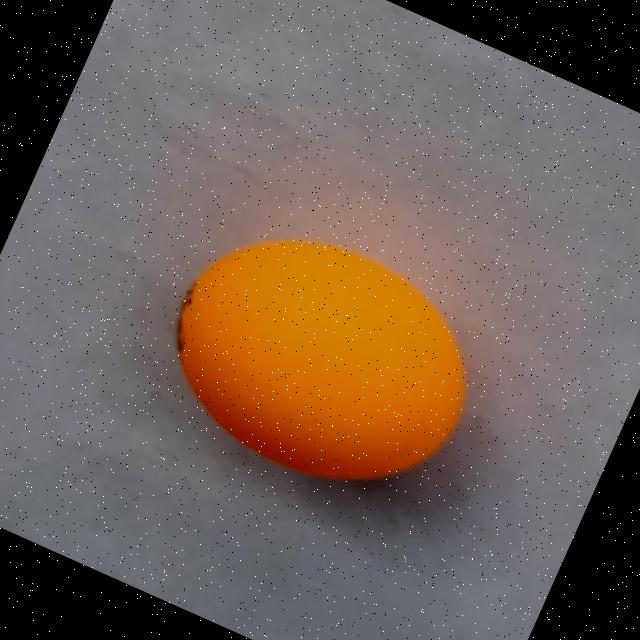ping-pong-ball: (117, 183, 528, 540)
